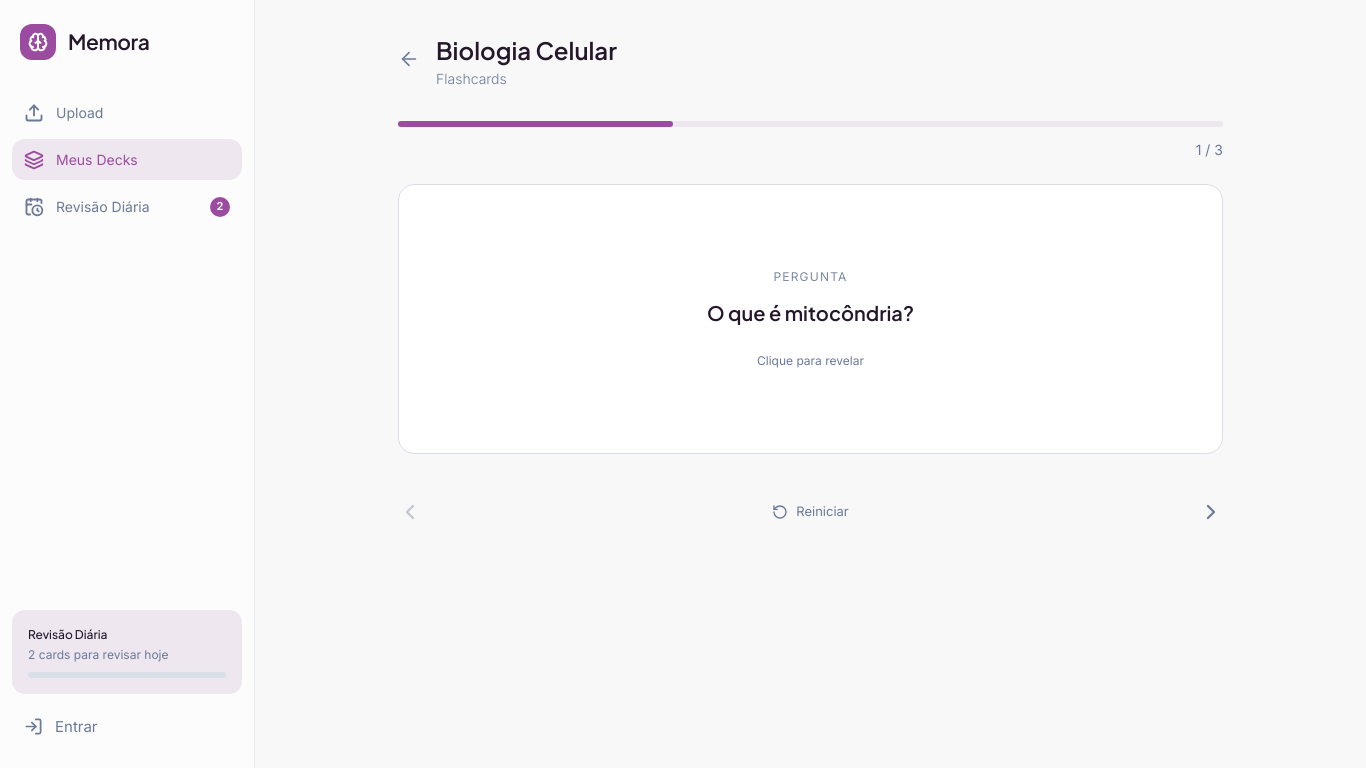
FlashcardPage › 4 · Marcação de resposta › exibe feedback '✕ Marcado como erro' ao clicar em Errei
Expected: the heading "O que é mitocôndria?" is shown, x1=707 y1=298 x2=914 y2=328
Click the text "Clique para revelar".
click(810, 361)  # box x1=757 y1=352 x2=864 y2=370
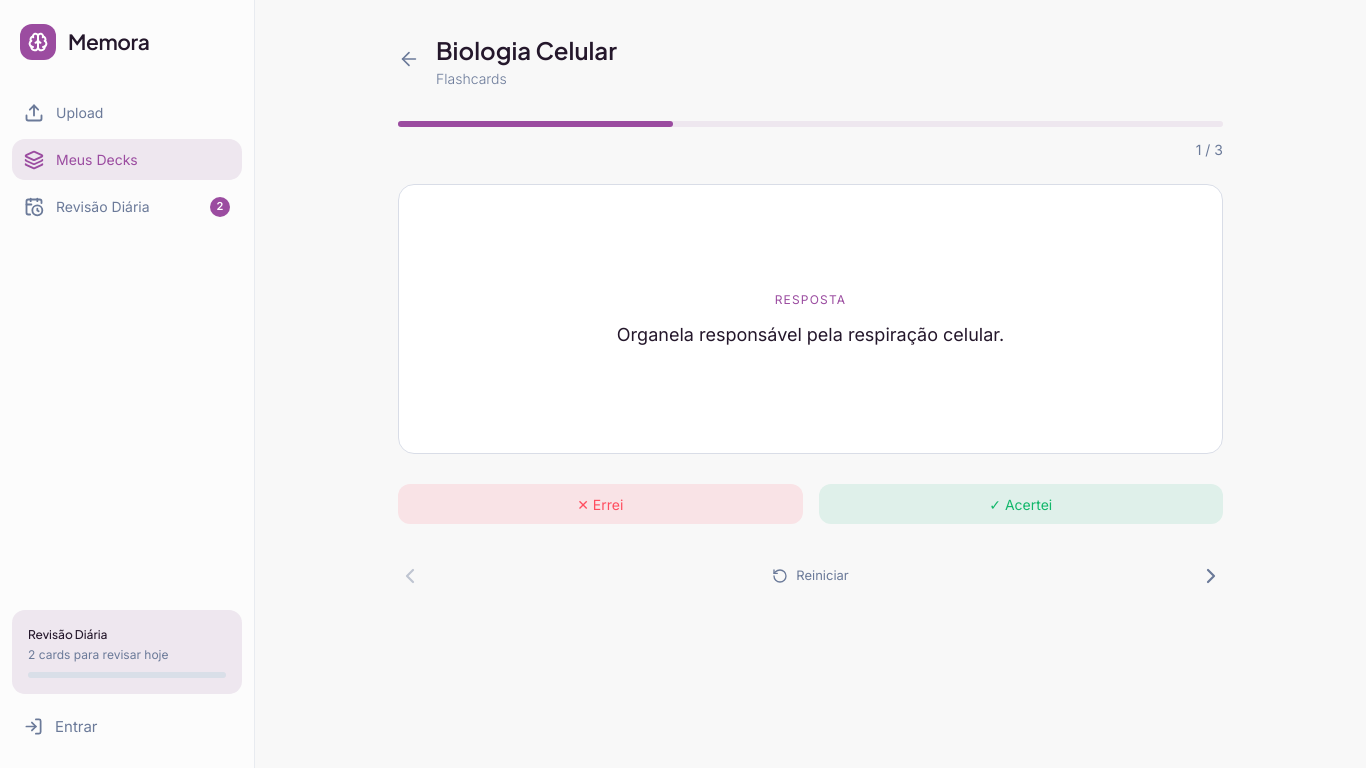
Click the button "✕ Errei".
click(600, 504)  # box x1=398 y1=484 x2=802 y2=524
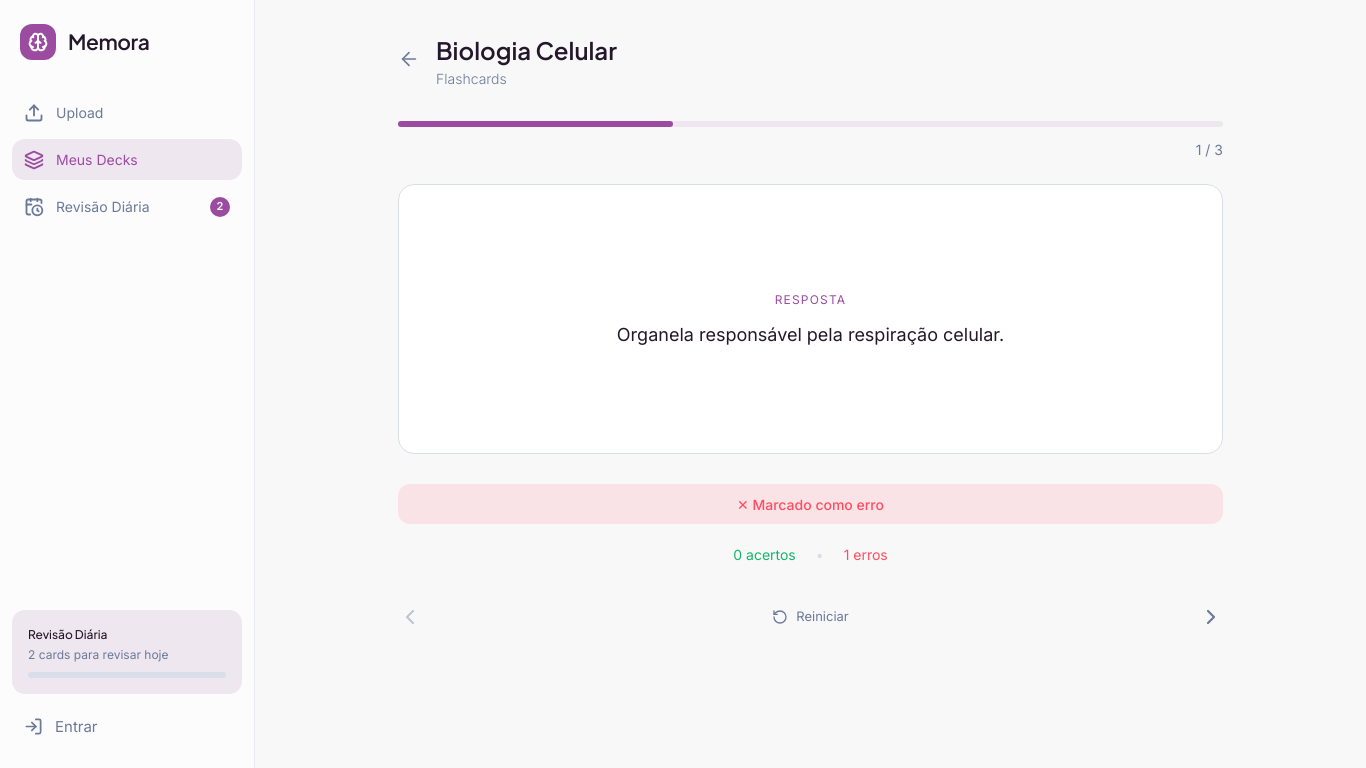
Expected: the text "✕ Marcado como erro" is shown, x1=398 y1=484 x2=1223 y2=524
